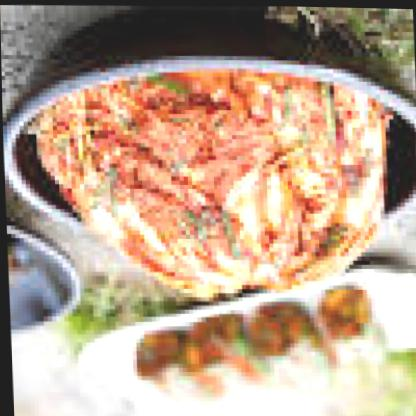Kimchi stew: (48, 52, 394, 301)
cucumber kimchi: (118, 281, 394, 415)
